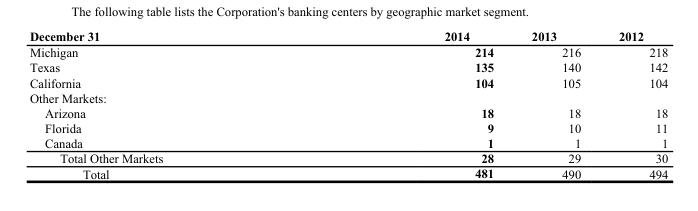table: (28, 28, 667, 180)
table column: (28, 28, 303, 180), (303, 28, 511, 180), (511, 28, 599, 180), (599, 28, 667, 180)
table column header: (28, 28, 667, 43)
table projected row header: (28, 89, 667, 105)
table row: (28, 43, 667, 59), (28, 89, 667, 105), (28, 28, 667, 43), (28, 59, 667, 74), (28, 74, 667, 89), (28, 105, 667, 120), (28, 120, 667, 135), (28, 135, 667, 150), (28, 150, 667, 165), (28, 165, 667, 180)
